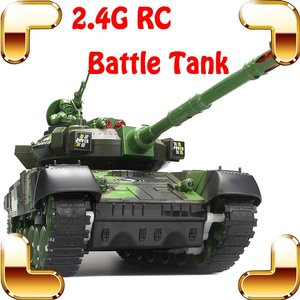Battle Tank: (30, 109, 262, 266)
